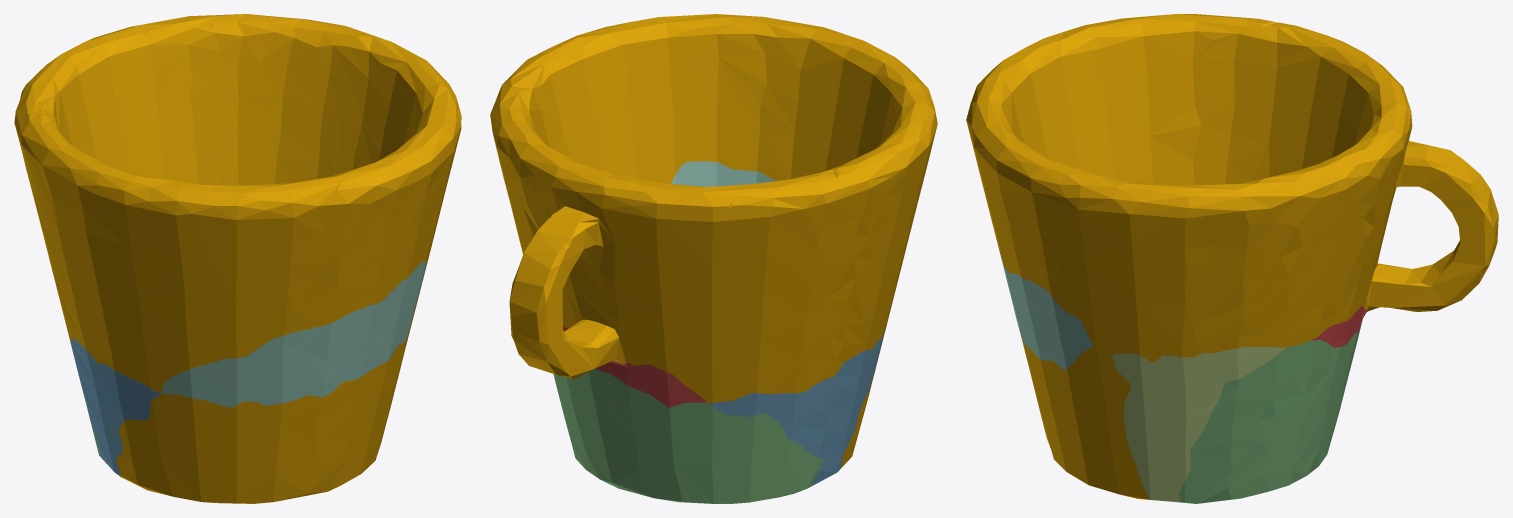
Rendered from fractured_44_6pcs.glb.
3 renders of one model, left to right at view 1: azimuth 30°, elevation 25°; view 2: azimuth 150°, elevation 25°; view 3: azimuth 270°, elevation 25°, orthographic.
Visible parts, largest first — view 1: piece_0.obj, piece_4.obj, piece_2.obj; view 2: piece_0.obj, piece_3.obj, piece_2.obj, piece_1.obj, piece_4.obj; view 3: piece_0.obj, piece_3.obj, piece_5.obj, piece_4.obj, piece_1.obj.
Part boxes in pixels (x1,y1,x2,y2): piece_0.obj: (14,14,461,503); piece_4.obj: (161,260,426,407); piece_2.obj: (69,336,160,476); piece_0.obj: (490,14,937,470); piece_3.obj: (553,369,823,503); piece_2.obj: (708,327,886,486); piece_1.obj: (563,326,707,407); piece_4.obj: (670,161,775,186); piece_0.obj: (966,14,1498,500); piece_3.obj: (1178,321,1362,503); piece_5.obj: (1112,346,1285,502); piece_4.obj: (999,252,1094,370); piece_1.obj: (1311,306,1367,347).
Size of the model in its own units: 0.8382 by 0.7127 by 1.
